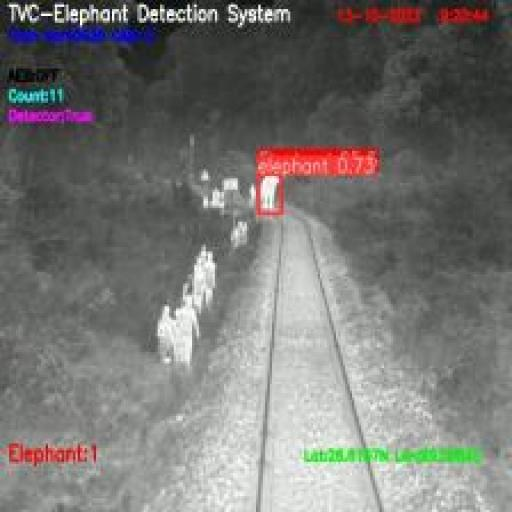Elephant: (258, 174, 281, 212)
